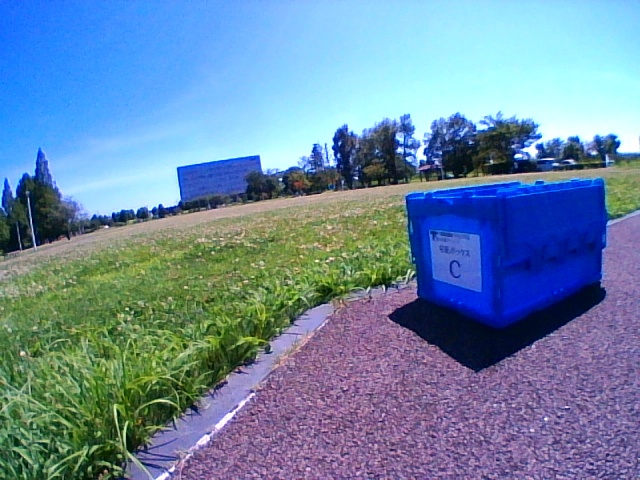blue_box: (406, 178, 608, 328)
tag_c: (435, 235, 479, 281)
